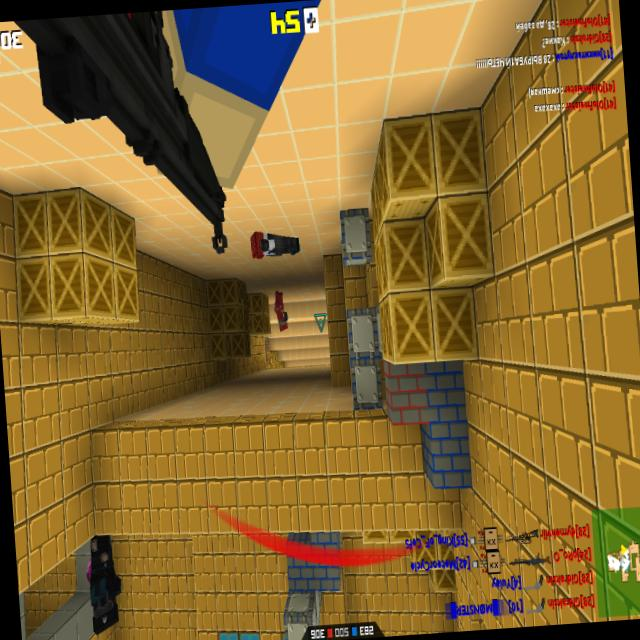enemy: (272, 288, 288, 333)
